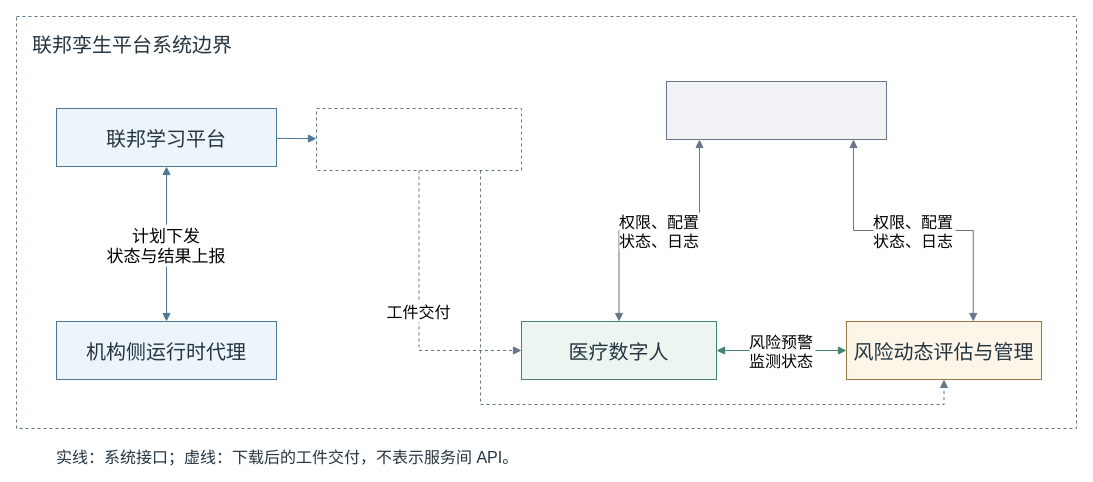
The diagram is 1093 pixels wide and 482 high, and some of its shapes have lost their labels. The shapes that lost their labels are listed below. From the top down, each one's centre as x and y in pixels, then its label:
the point at 776,110: 孪生侧系统管理
the point at 419,139: 授权用户下载工件 应用侧部署
